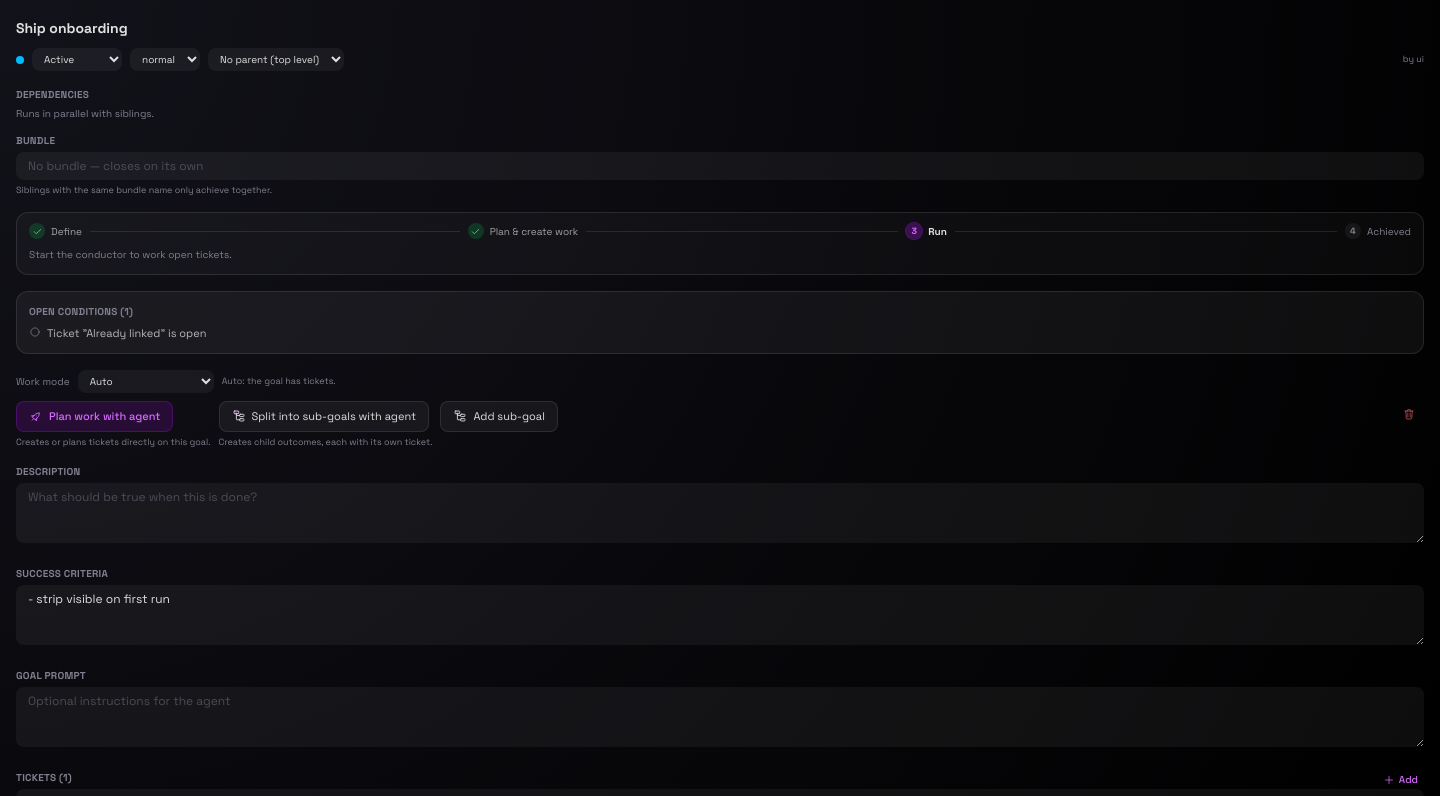
it: GoalDetailPanel ticket browser › excludes tickets already linked to this goal from the picker
The width and height of the screenshot is (1440, 796).
Click the button with test id "goal-ticket-add-btn" at (1400, 780), box [1377,770,1424,789]
(page scrolled)
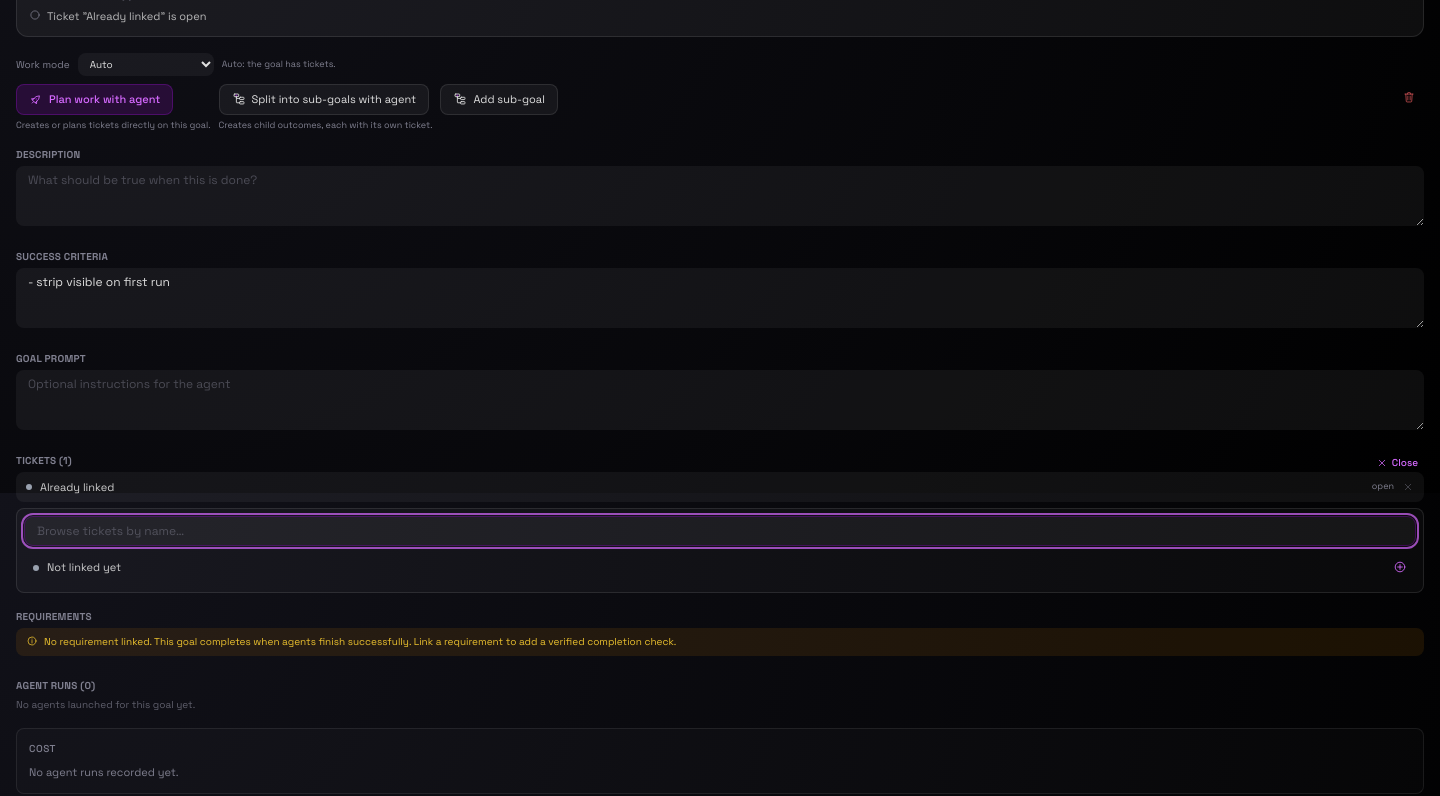
Expected: the list item with test id "goal-ticket-option-t2" is shown, [25,551,1415,584]
